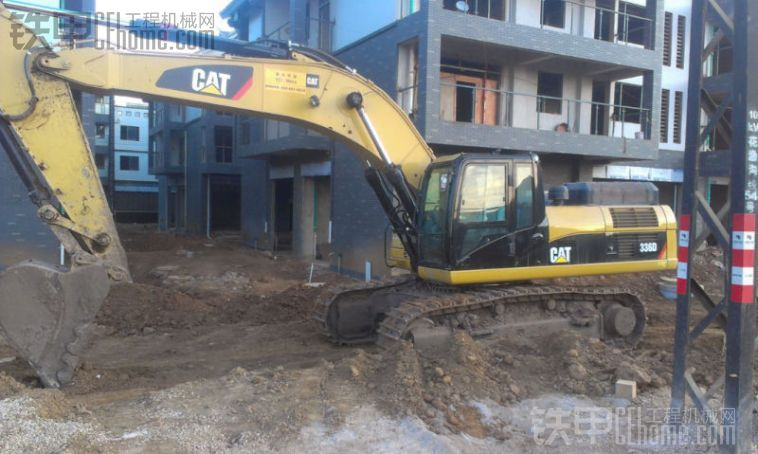excavator: (1, 1, 675, 404)
